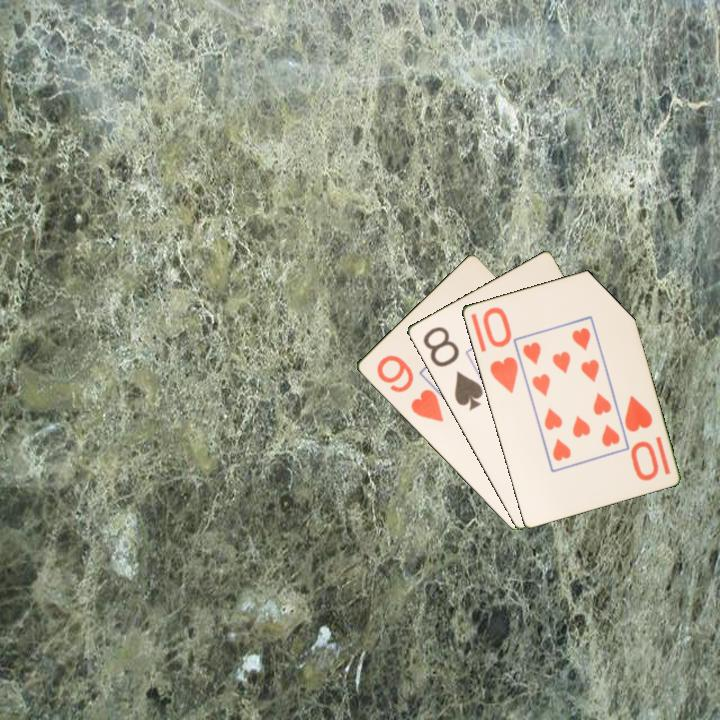10h: (479, 303, 521, 396), (621, 391, 661, 484)
8s: (419, 323, 486, 413)
9h: (372, 351, 446, 425)
